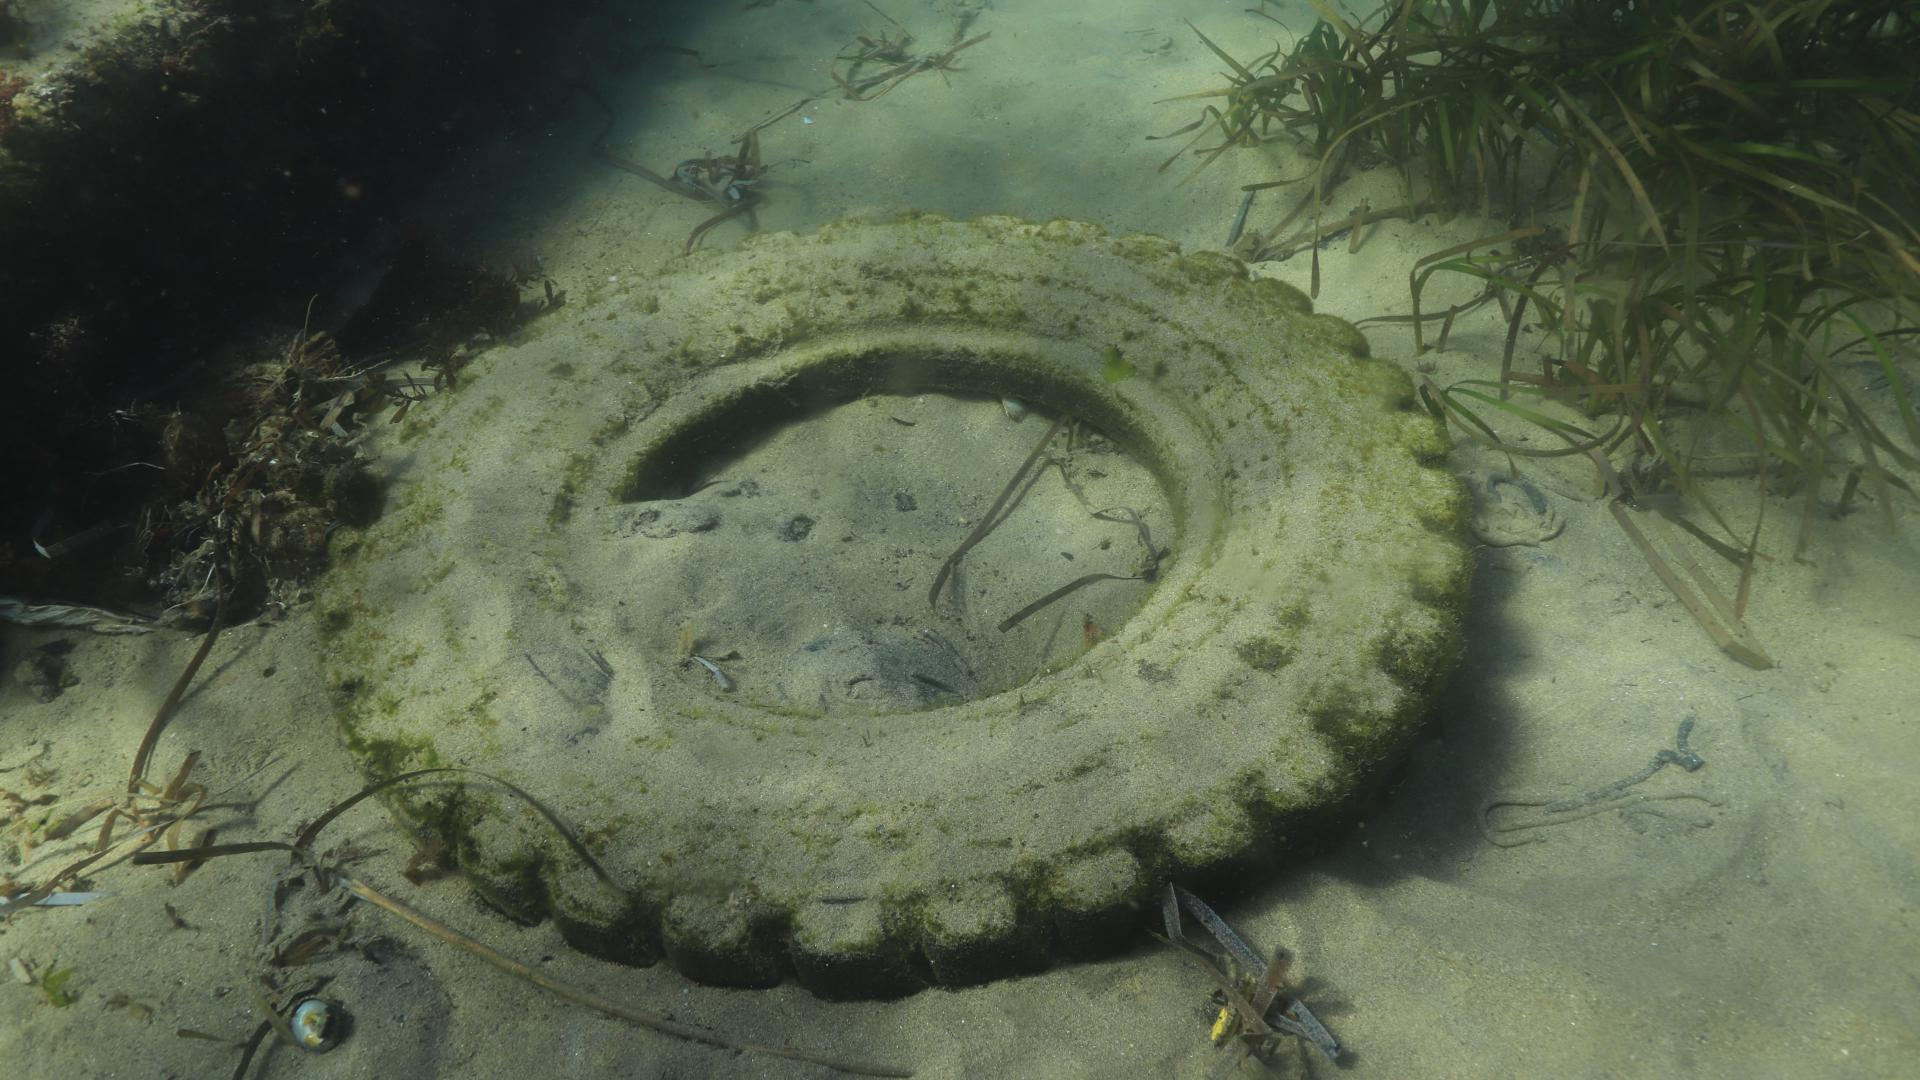tire: (313, 214, 1474, 988)
